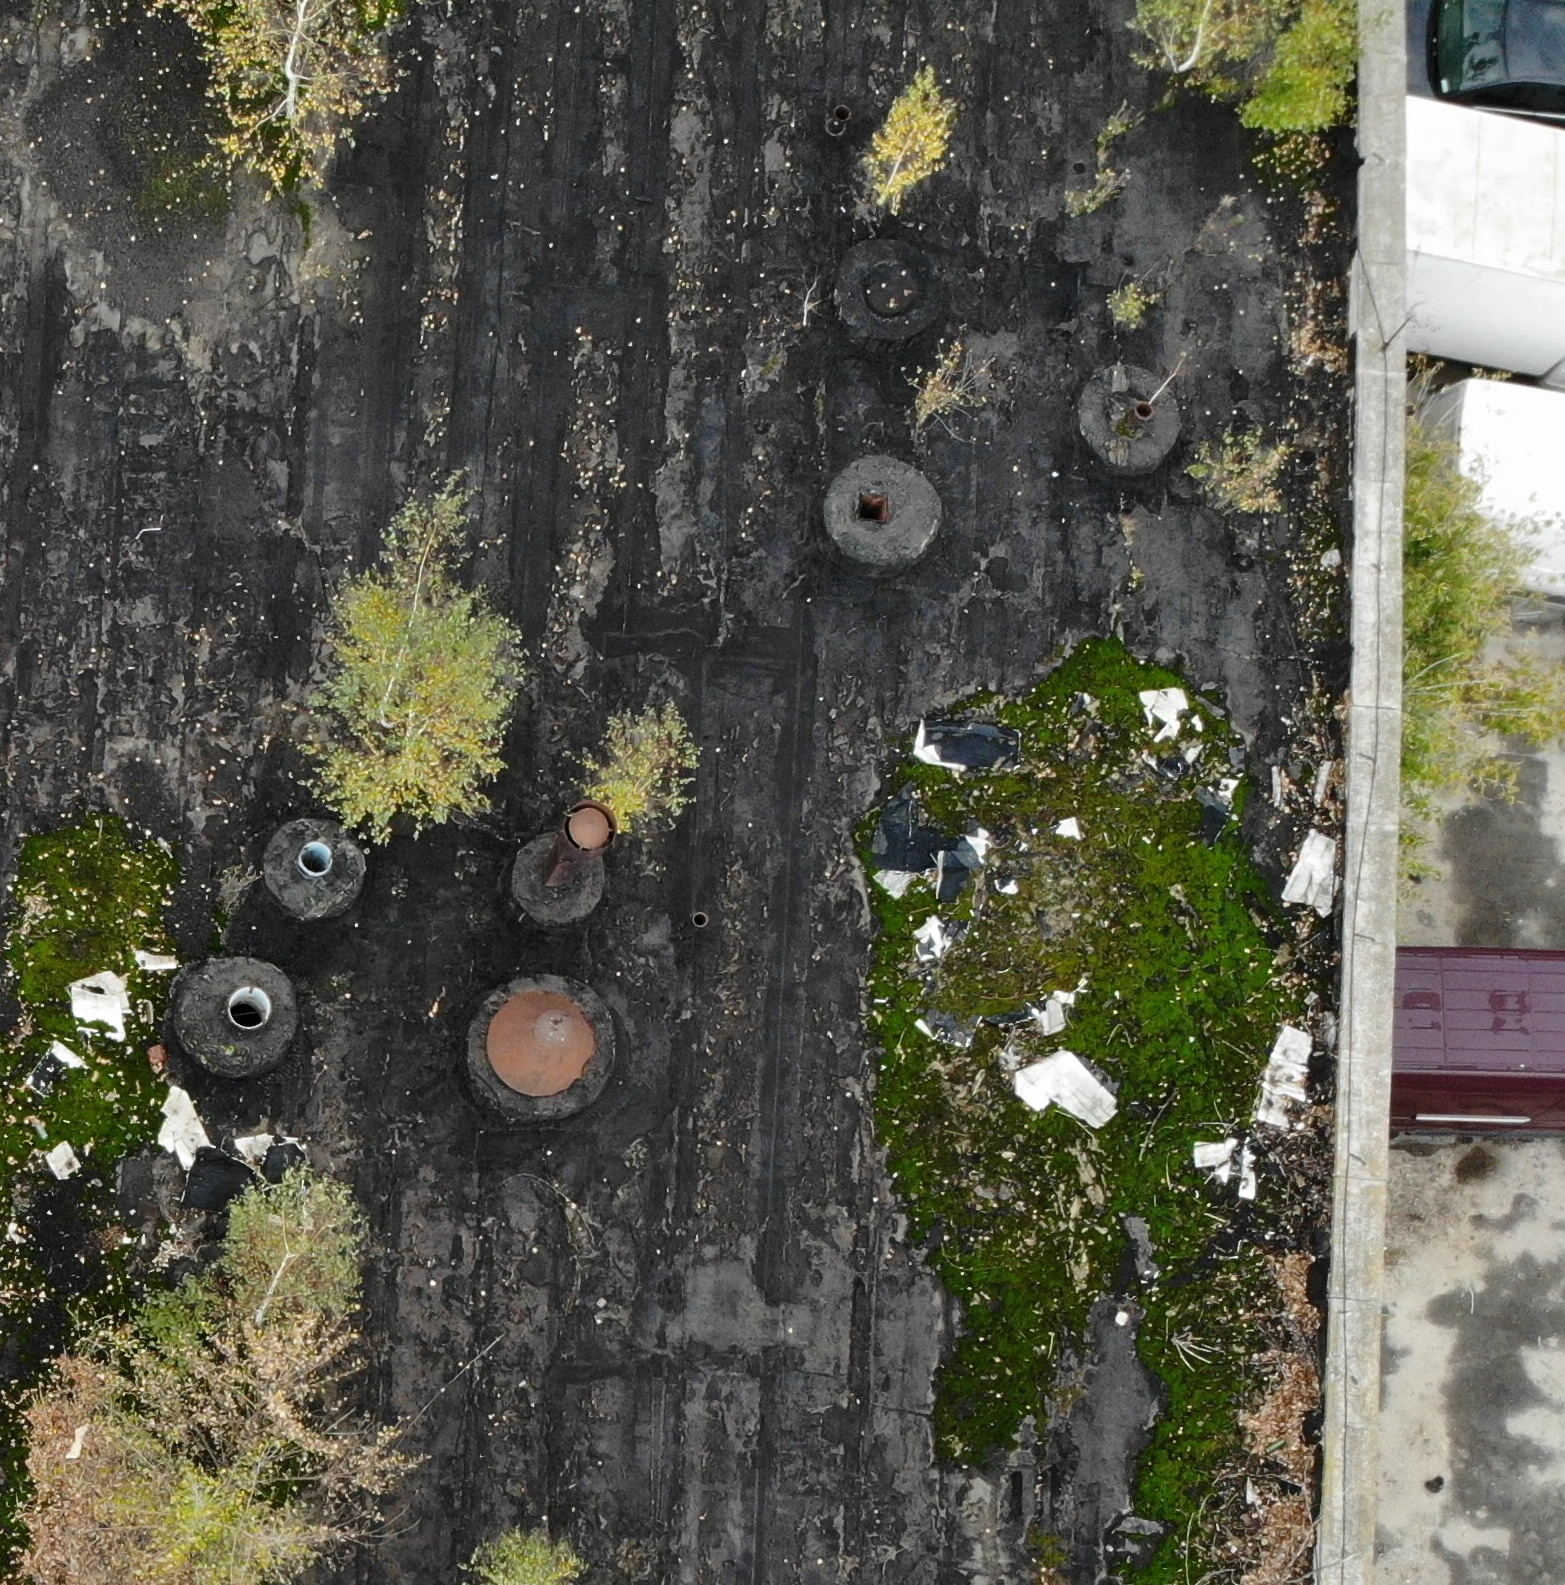tree: (24, 1274, 317, 1582), (279, 406, 512, 737), (330, 588, 540, 866), (196, 3, 408, 196), (201, 1128, 386, 1340), (1126, 11, 1372, 171), (573, 682, 709, 860), (861, 39, 973, 228), (1172, 398, 1284, 562), (896, 311, 993, 474), (451, 1503, 590, 1581)
